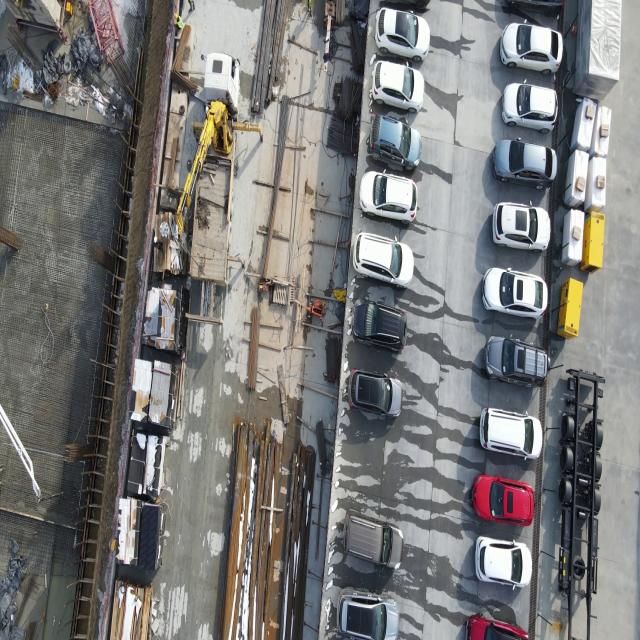p3rson: (152, 234, 166, 253), (174, 13, 184, 30), (185, 0, 196, 14), (203, 102, 212, 114), (306, 0, 312, 17), (307, 0, 312, 17), (0, 462, 4, 475)
